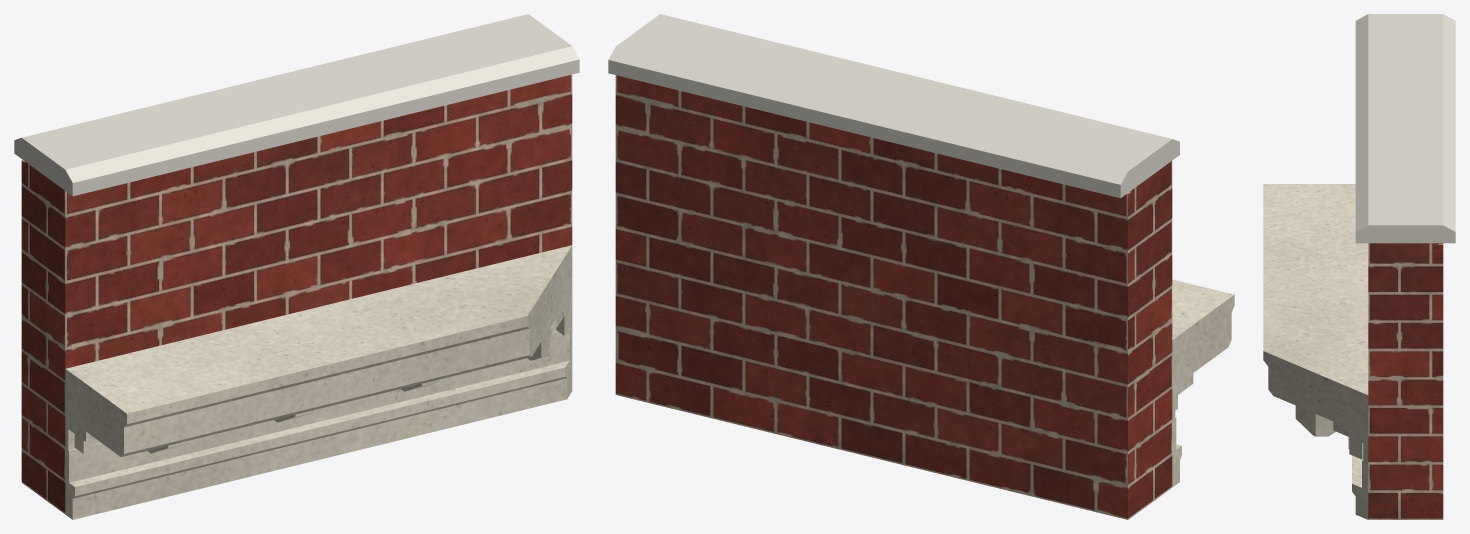
The model's file is parapet_pvl.glb.
3 views of the same model, side by side, from view 1: azimuth 30°, elevation 25°; view 2: azimuth 150°, elevation 25°; view 3: azimuth 270°, elevation 25° (orthographic). The views are drawn at different scales.
Visible parts, largest first — view 1: parapet_pvl_brick, parapet_pvl_trim, parapet_pvl_coping; view 2: parapet_pvl_brick, parapet_pvl_coping, parapet_pvl_trim; view 3: parapet_pvl_trim, parapet_pvl_coping, parapet_pvl_brick.
Part boxes in pixels (x1=…): parapet_pvl_brick: x1=21, y1=74, x2=572, y2=513; parapet_pvl_trim: x1=65, y1=245, x2=572, y2=519; parapet_pvl_coping: x1=14, y1=14, x2=579, y2=196; parapet_pvl_brick: x1=615, y1=75, x2=1172, y2=519; parapet_pvl_coping: x1=608, y1=14, x2=1179, y2=198; parapet_pvl_trim: x1=1172, y1=279, x2=1234, y2=487; parapet_pvl_trim: x1=1263, y1=184, x2=1368, y2=519; parapet_pvl_coping: x1=1355, y1=14, x2=1455, y2=243; parapet_pvl_brick: x1=1368, y1=243, x2=1443, y2=519.
Size of the model in its own units: 2 by 1.3 by 0.77.
3 materials, 2 textured.
